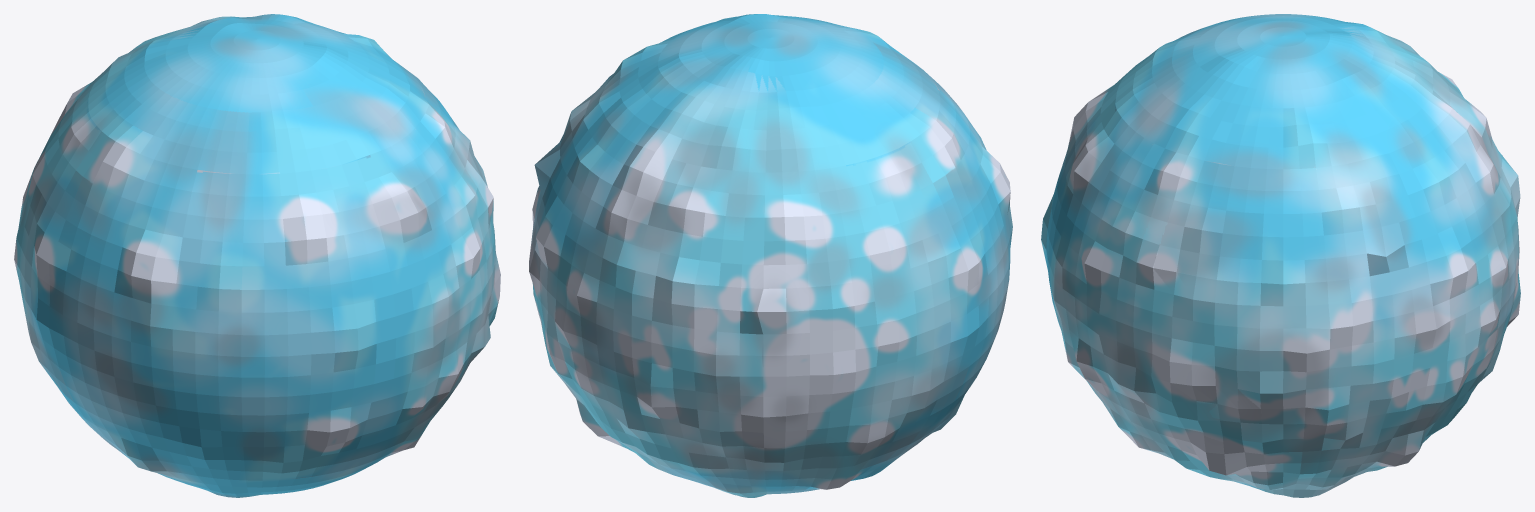
Rendered from Icy super cold.fbx.
The picture shows the model from 3 angles, left to right: view 1: azimuth 30°, elevation 25°; view 2: azimuth 150°, elevation 25°; view 3: azimuth 270°, elevation 25°; orthographic projection.
Parts seen in each view (by area): view 1: Sphere; view 2: Sphere; view 3: Sphere.
Part boxes in pixels (bbox=[...]): Sphere: bbox=[14, 14, 500, 497]; Sphere: bbox=[529, 14, 1012, 497]; Sphere: bbox=[1041, 14, 1520, 497].
Size of the model in its own units: 7.46 by 7.57 by 7.41.
